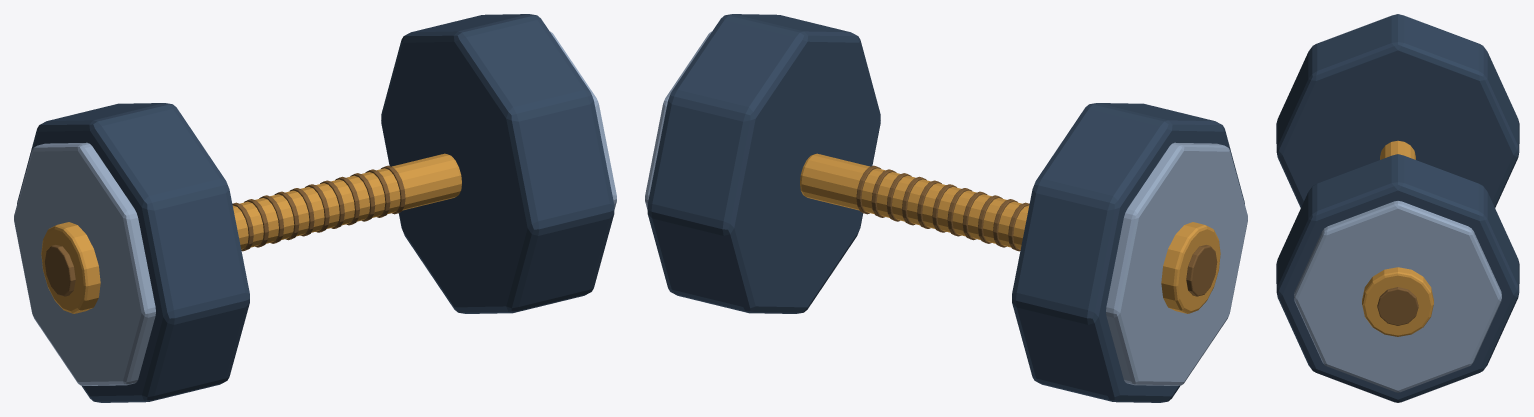
Rendered from HaltereEgo.fbx.
3 renders of one model, left to right at view 1: azimuth 30°, elevation 25°; view 2: azimuth 150°, elevation 25°; view 3: azimuth 270°, elevation 25°, orthographic. The views are drawn at different scales.
Parts seen in each view (by area): view 1: HaltereEgo-Iron, HaltereEgo-Steel, HaltereEgo-Brass, HaltereEgo-Grip; view 2: HaltereEgo-Iron, HaltereEgo-Steel, HaltereEgo-Brass, HaltereEgo-Grip; view 3: HaltereEgo-Iron, HaltereEgo-Steel, HaltereEgo-Brass, HaltereEgo-Grip.
Part boxes in pixels (left/top/right/bottom): HaltereEgo-Iron: left=17, top=14, right=614, bottom=402; HaltereEgo-Steel: left=14, top=31, right=616, bottom=385; HaltereEgo-Brass: left=41, top=153, right=461, bottom=313; HaltereEgo-Grip: left=44, top=165, right=405, bottom=296; HaltereEgo-Iron: left=647, top=14, right=1244, bottom=402; HaltereEgo-Steel: left=645, top=31, right=1247, bottom=385; HaltereEgo-Brass: left=800, top=153, right=1220, bottom=313; HaltereEgo-Grip: left=856, top=165, right=1217, bottom=296; HaltereEgo-Iron: left=1276, top=14, right=1519, bottom=402; HaltereEgo-Steel: left=1294, top=201, right=1501, bottom=392; HaltereEgo-Brass: left=1362, top=140, right=1433, bottom=336; HaltereEgo-Grip: left=1377, top=287, right=1418, bottom=325.
Bounding box in the file's own units: 34 × 17.61 × 17.64.
